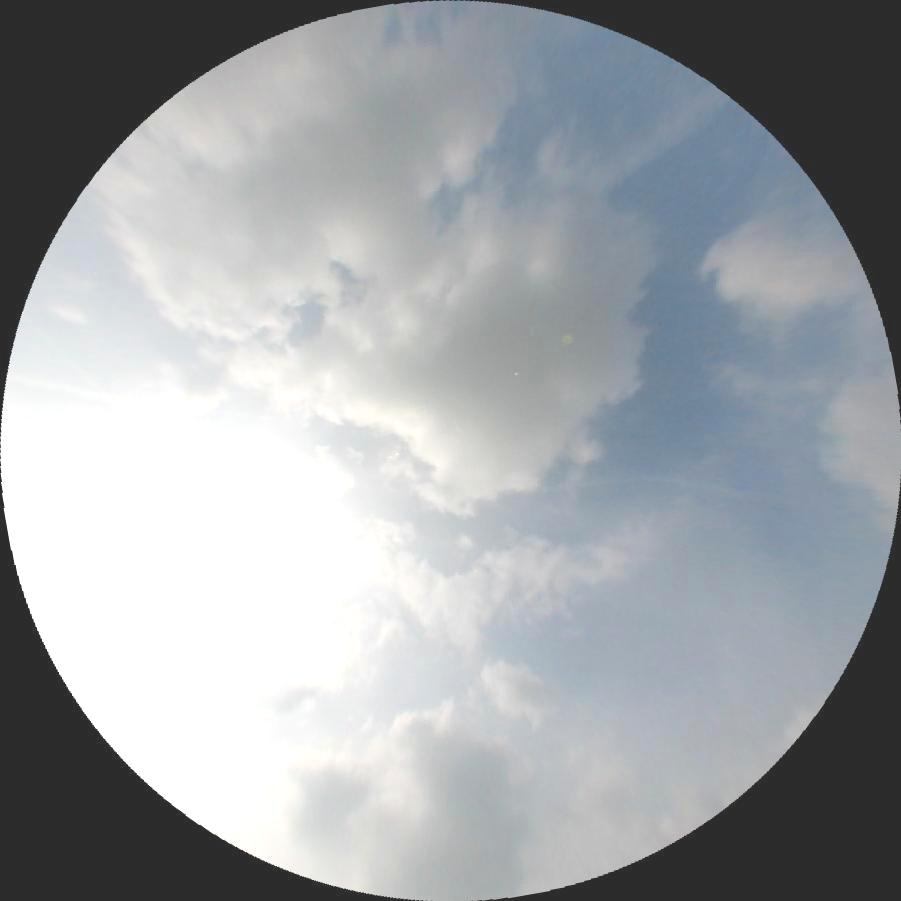contrail veryold: (566, 81, 733, 210), (553, 468, 751, 500)
sun: (8, 506, 304, 729)
unknow: (8, 371, 136, 408)
